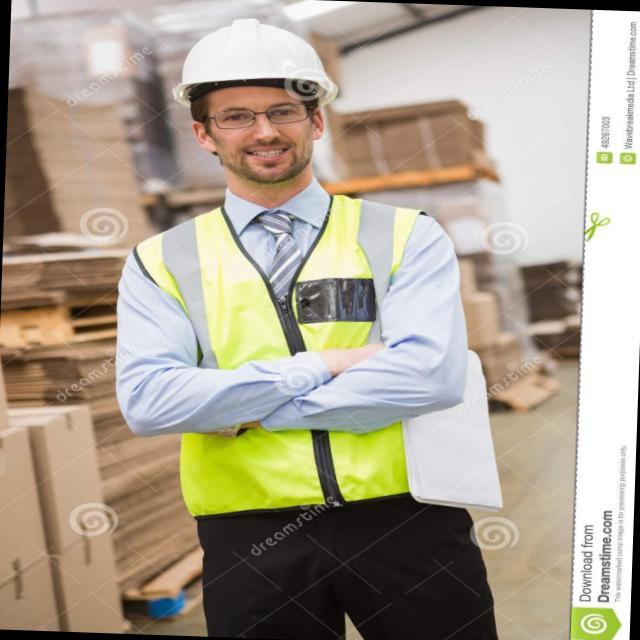helmet: (160, 26, 340, 106)
vest: (122, 216, 464, 506)
